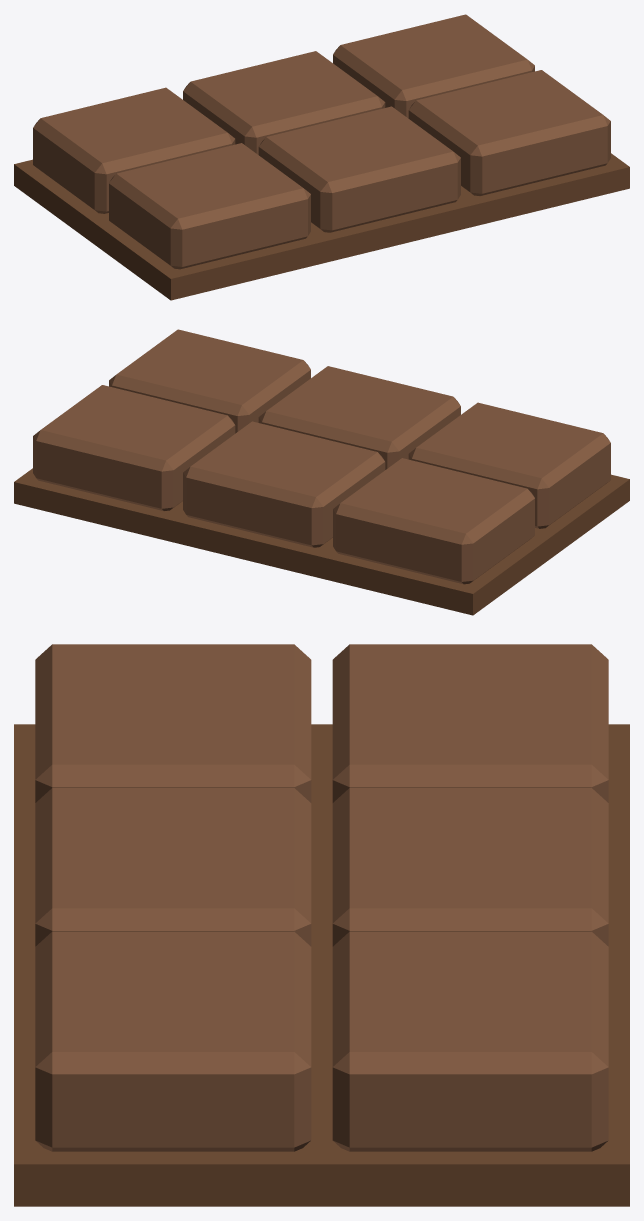
The model's file is ARCH-FOOD-BRAISED-PAN-PORTION.glb.
The picture shows the model from 3 angles, top to bottom: view 1: azimuth 30°, elevation 25°; view 2: azimuth 150°, elevation 25°; view 3: azimuth 270°, elevation 25°; orthographic projection. The views are drawn at different scales.
Parts seen in each view (by area): view 1: asset_arch_food_braised_pan_portion; view 2: asset_arch_food_braised_pan_portion; view 3: asset_arch_food_braised_pan_portion.
Boxes of the visible parts, <box> form: asset_arch_food_braised_pan_portion: <box>14,14,629,300</box>; asset_arch_food_braised_pan_portion: <box>14,329,629,615</box>; asset_arch_food_braised_pan_portion: <box>14,644,629,1206</box>.
Size of the model in its own units: 0.49 by 0.072 by 0.29.
